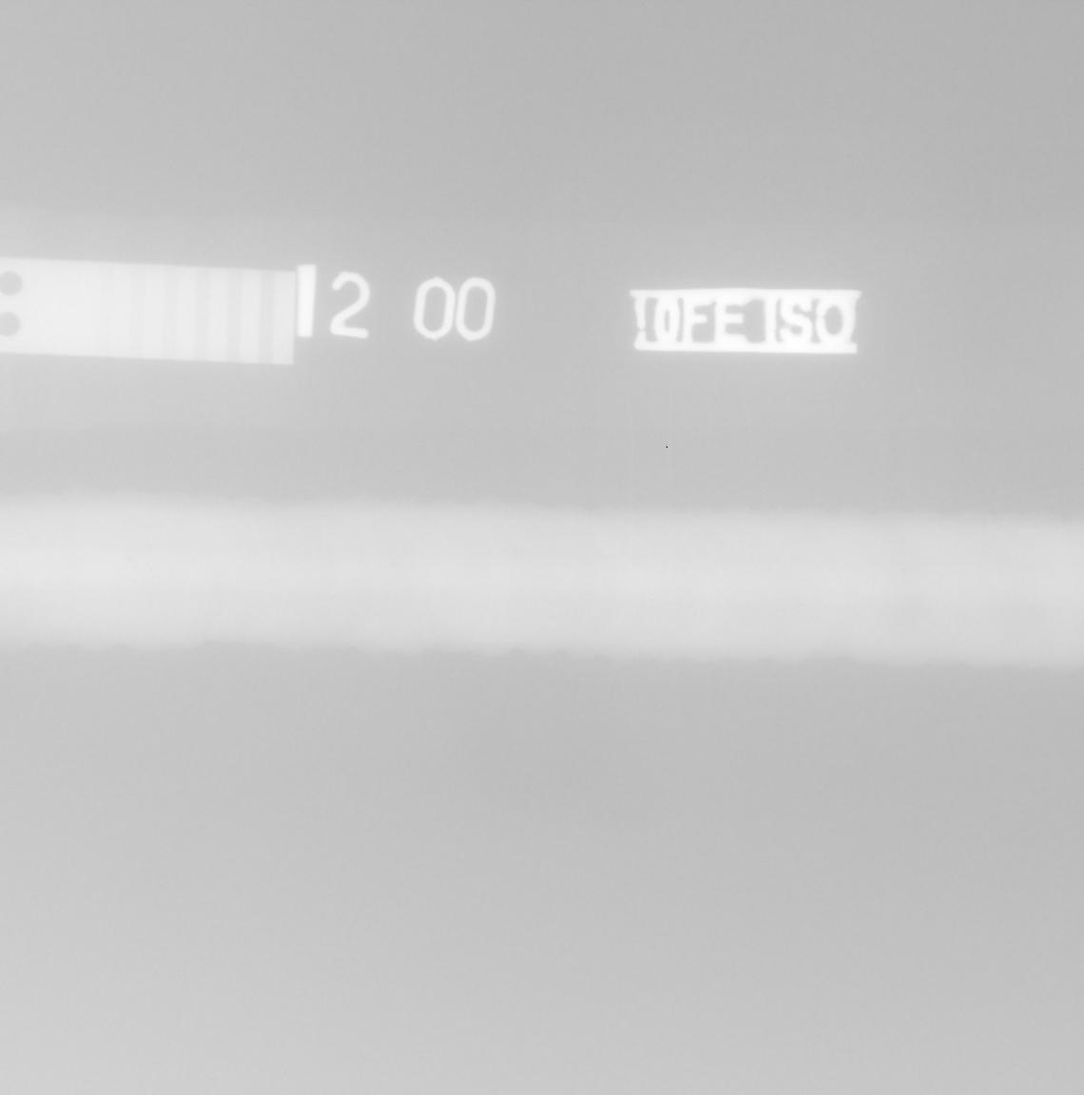Pore/Porosity: (390, 560, 400, 568), (900, 567, 906, 574), (129, 559, 133, 563)
